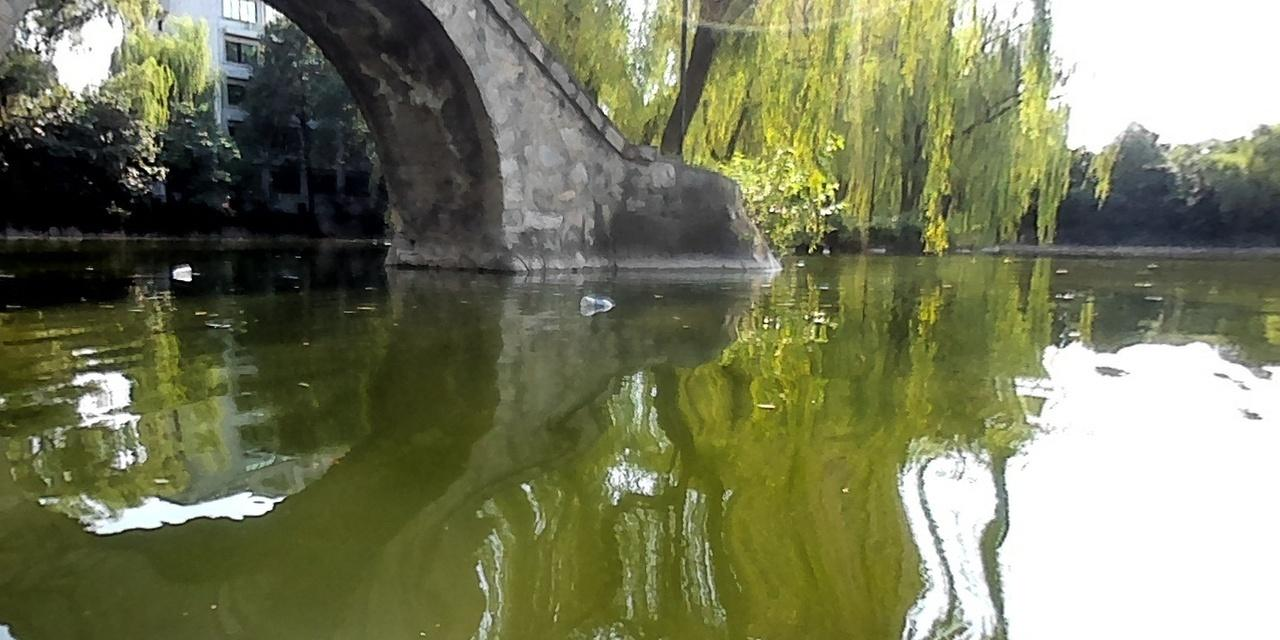bottle: (579, 296, 613, 311), (172, 265, 189, 274)
